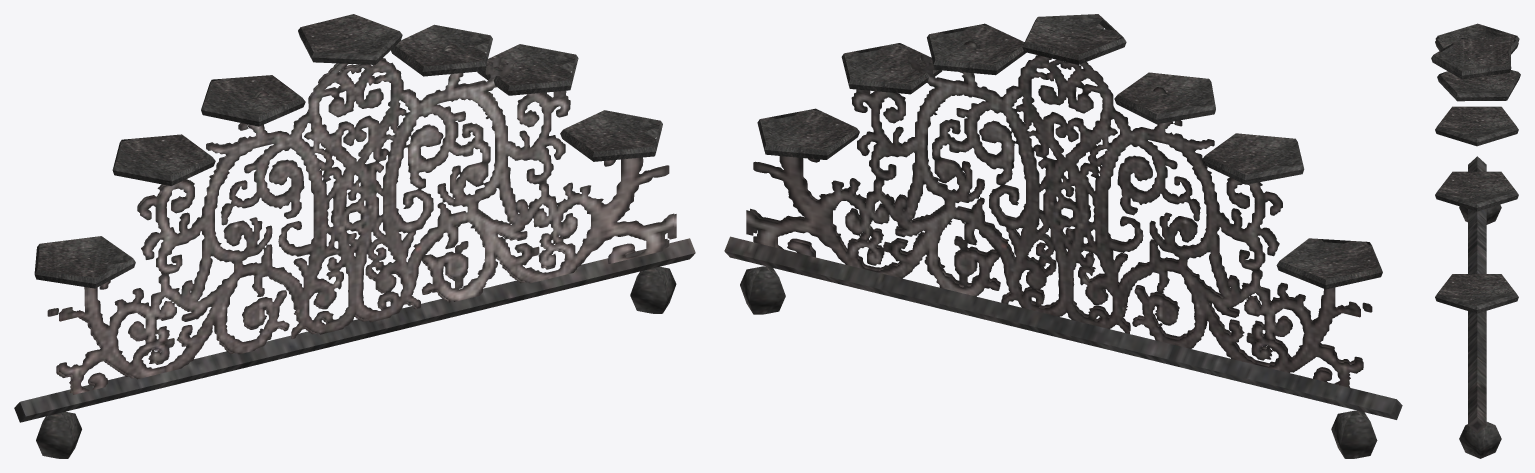
The model's file is M_Home_Garden_candle_holder_04.fbx.
3 views of the same model, side by side, from view 1: azimuth 30°, elevation 25°; view 2: azimuth 150°, elevation 25°; view 3: azimuth 270°, elevation 25° (orthographic). The views are drawn at different scales.
Parts seen in each view (by area): view 1: M_Home_Garden_candle_holder_04; view 2: M_Home_Garden_candle_holder_04; view 3: M_Home_Garden_candle_holder_04.
Boxes of the visible parts, x1,y1,x2,y2 form: M_Home_Garden_candle_holder_04: (14, 14, 695, 458); M_Home_Garden_candle_holder_04: (724, 14, 1402, 458); M_Home_Garden_candle_holder_04: (1431, 23, 1520, 458).
Size of the model in its own units: 61.14 by 30.89 by 8.87.
